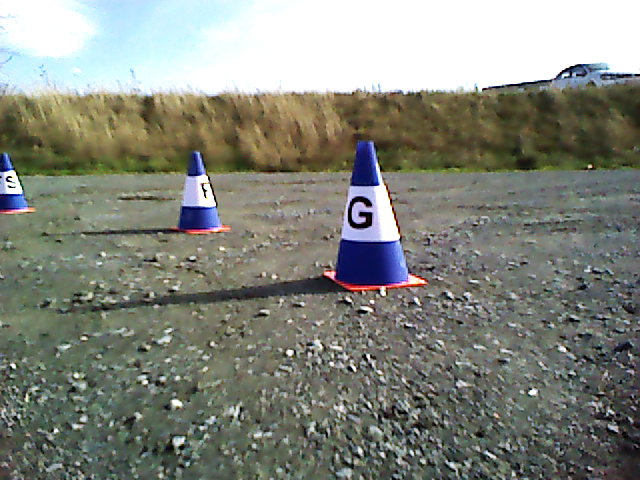bluecone: (336, 141, 408, 280), (181, 151, 221, 228), (1, 152, 28, 210)
